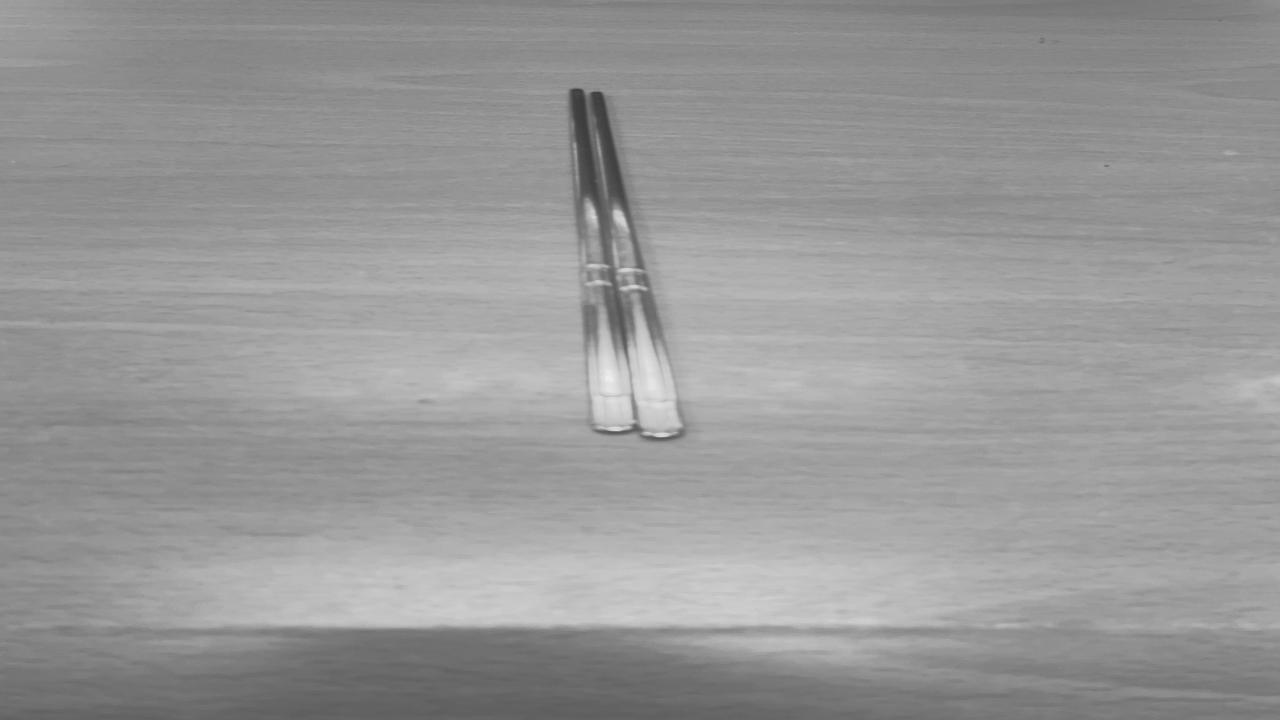chopstick: (574, 89, 677, 434)
